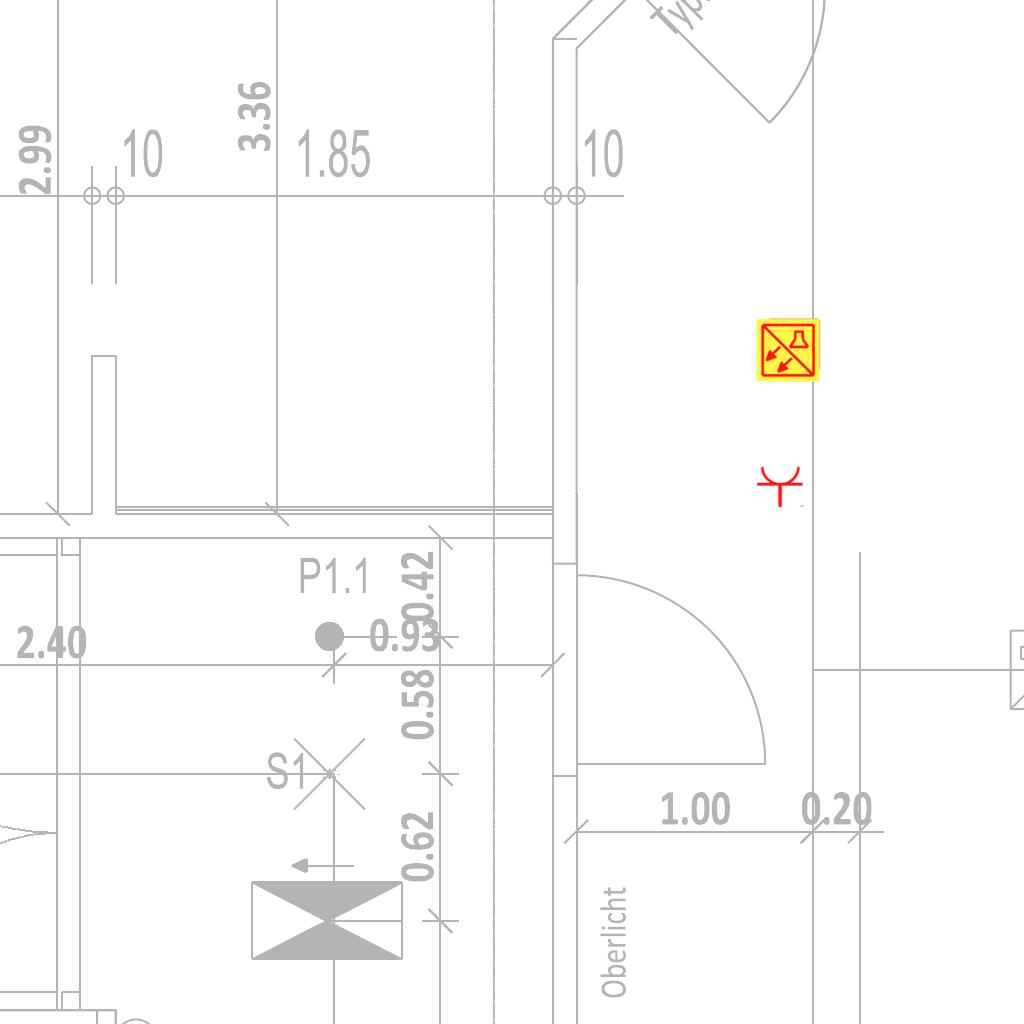OKW_Multisensormelder_(Kombination_optischer_Rauch-Kahlenmonoxid_Waerme-Melder): (755, 317, 821, 383)
Schukosteckdose_einfach: (756, 465, 806, 508)
